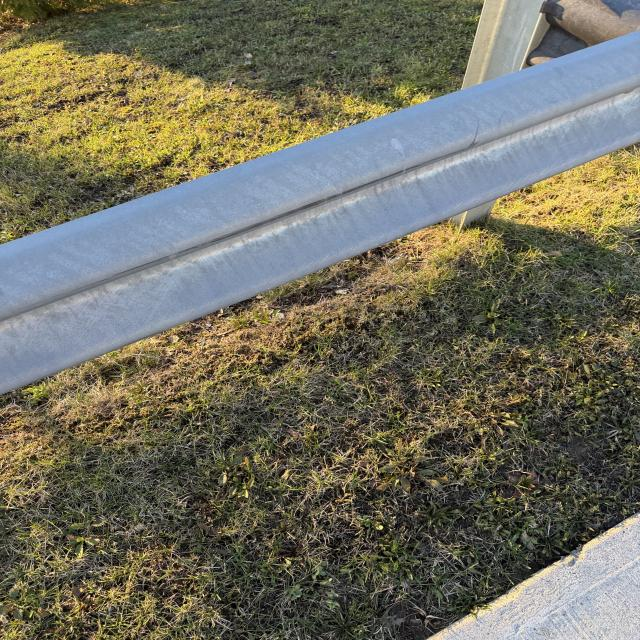Guard rail: (32, 51, 640, 354)
